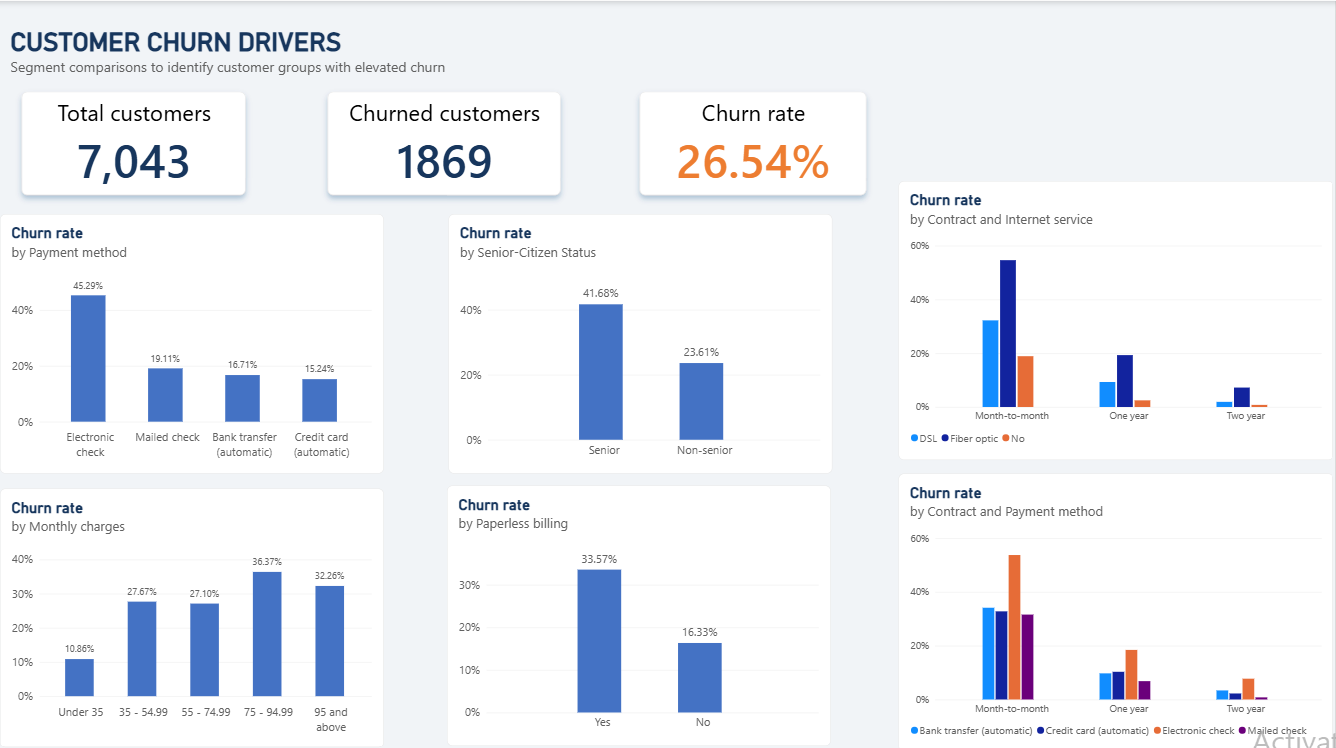

The page's visual inventory and layout, read from the dashboard file:
{"tool":"powerbi","page":{"name":"Page 2","canvas":[1920,1080],"ordinal":1},"visuals":[{"type":"clusteredColumnChart","title":"Churn rate","fields":{"Category":["public vw_churn_powerbi.payment_method"],"Y":["public vw_churn_powerbi.Churn rate"]},"box":[0.5,306.6,552,373],"z":0},{"type":"cardVisual","fields":{"Data":["CountNonNull(public vw_churn_powerbi.customer_id)"]},"box":[15.9,114.3,354.3,181.7],"z":1000},{"type":"cardVisual","fields":{"Data":["public vw_churn_powerbi.churned_customers"]},"box":[454.3,114.3,368,181.7],"z":2000},{"type":"cardVisual","fields":{"Data":["public vw_churn_powerbi.churn_rate"]},"box":[904,114.3,358.9,181.7],"z":3000},{"type":"clusteredColumnChart","title":"Churn rate","fields":{"Category":["public vw_churn_powerbi.Senior Status"],"Y":["public vw_churn_powerbi.Churn rate"]},"box":[645.1,306.6,552,373],"z":4000},{"type":"clusteredColumnChart","title":"Churn rate","fields":{"Category":["public vw_churn_powerbi.paperless_billing"],"Y":["public vw_churn_powerbi.Churn rate"]},"box":[642.8,697.3,551.9,374.8],"z":5000},{"type":"clusteredColumnChart","title":"Churn rate","fields":{"Category":["public vw_churn_powerbi.monthly_charge_band"],"Y":["public vw_churn_powerbi.Churn rate"]},"box":[0.3,700.3,552,373],"z":6000},{"type":"clusteredColumnChart","title":"Churn rate","fields":{"Category":["public vw_churn_powerbi.contract"],"Series":["public vw_churn_powerbi.internet_service"],"Y":["public vw_churn_powerbi.Churn rate"]},"box":[1292.4,258.9,626,401],"z":7000},{"type":"clusteredColumnChart","title":"Churn rate","fields":{"Category":["public vw_churn_powerbi.contract"],"Series":["public vw_churn_powerbi.payment_method"],"Y":["public vw_churn_powerbi.Churn rate"]},"box":[1292.4,679.1,626,401],"z":8000},{"type":"textbox","title":"CUSTOMER CHURN DRIVERS","box":[15.1,36.7,919.9,258.9],"z":9000}]}

Visuals, with their boxes in screenshot pixels (x1, y1, x2, y2), scaled from the page's 1920x1080 canvas onto the 1336x748 screenshot:
"Churn rate" clusteredColumnChart: bbox(0, 212, 384, 471)
cardVisual - CountNonNull(public vw_churn_powerbi.customer_id): bbox(11, 79, 258, 205)
cardVisual - public vw_churn_powerbi.churned_customers: bbox(316, 79, 572, 205)
cardVisual - public vw_churn_powerbi.churn_rate: bbox(629, 79, 879, 205)
"Churn rate" clusteredColumnChart: bbox(449, 212, 833, 471)
"Churn rate" clusteredColumnChart: bbox(447, 483, 831, 743)
"Churn rate" clusteredColumnChart: bbox(0, 485, 384, 743)
"Churn rate" clusteredColumnChart: bbox(899, 179, 1335, 457)
"Churn rate" clusteredColumnChart: bbox(899, 470, 1335, 747)
"CUSTOMER CHURN DRIVERS" textbox: bbox(11, 25, 651, 205)
